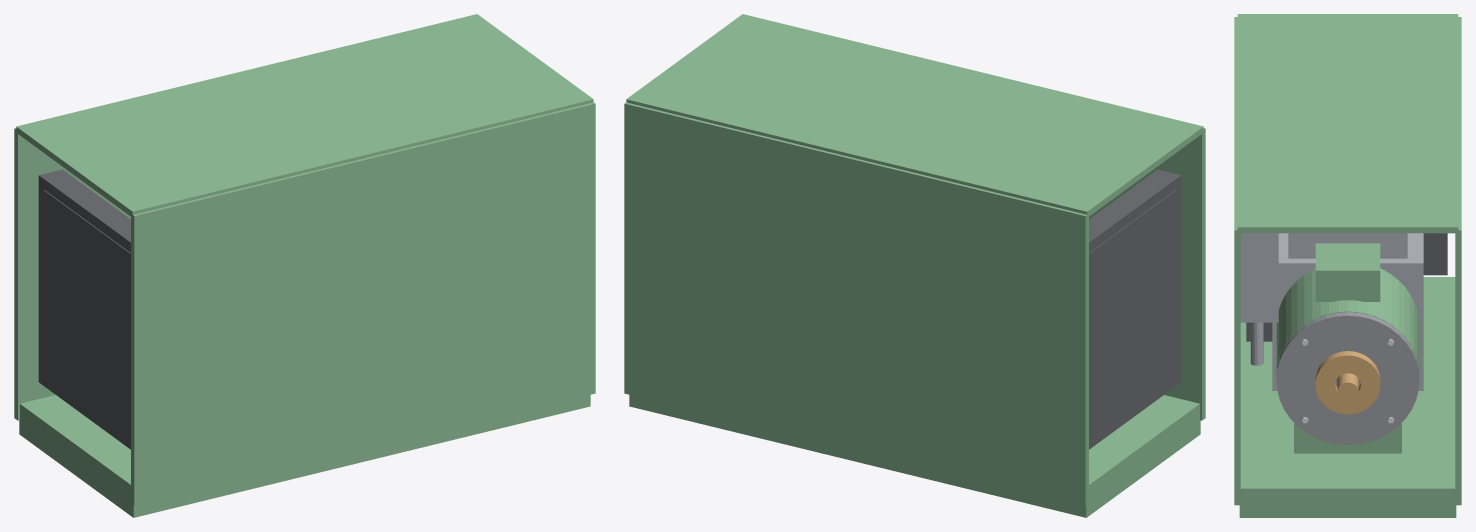
The model's file is modele.glb.
The picture shows the model from 3 angles, left to right: view 1: azimuth 30°, elevation 25°; view 2: azimuth 150°, elevation 25°; view 3: azimuth 270°, elevation 25°; orthographic projection. The views are drawn at different scales.
Parts seen in each view (by area): view 1: capot_ge, radiateur, chassis_ge; view 2: capot_ge, radiateur, chassis_ge; view 3: capot_ge, chassis_ge, flasque_arriere, carcasse_stator, moteur_ge, panneau, bornier, excitatrice, radiateur, rotor, batterie.
Part boxes in pixels (left/top/right/bottom): capot_ge: left=14, top=14, right=595, bottom=505; radiateur: left=38, top=169, right=130, bottom=449; chassis_ge: left=19, top=395, right=590, bottom=517; capot_ge: left=624, top=14, right=1205, bottom=505; radiateur: left=1089, top=169, right=1181, bottom=449; chassis_ge: left=629, top=395, right=1200, bottom=517; capot_ge: left=1234, top=14, right=1461, bottom=505; chassis_ge: left=1239, top=277, right=1456, bottom=517; flasque_arriere: left=1276, top=312, right=1419, bottom=445; carcasse_stator: left=1276, top=268, right=1419, bottom=453; moteur_ge: left=1272, top=233, right=1423, bottom=390; panneau: left=1240, top=233, right=1278, bottom=365; bornier: left=1315, top=243, right=1380, bottom=301; excitatrice: left=1315, top=351, right=1380, bottom=414; radiateur: left=1423, top=233, right=1447, bottom=275; rotor: left=1337, top=373, right=1358, bottom=402; batterie: left=1246, top=322, right=1272, bottom=341.
Size of the model in its own units: 2.33 by 1.49 by 1.05.
